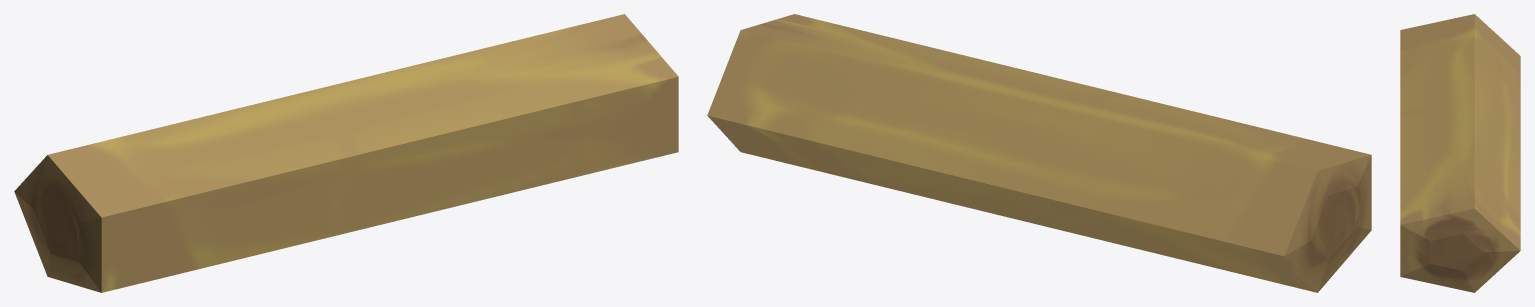
The model's file is Wrapped Lumpia.fbx.
3 renders of one model, left to right at view 1: azimuth 30°, elevation 25°; view 2: azimuth 150°, elevation 25°; view 3: azimuth 270°, elevation 25°, orthographic. The views are drawn at different scales.
Visible parts, largest first — view 1: WrappedLumpia; view 2: WrappedLumpia; view 3: WrappedLumpia.
Part boxes in pixels (x1,y1,x2,y2): WrappedLumpia: (14,14,678,292); WrappedLumpia: (707,14,1371,292); WrappedLumpia: (1400,14,1520,292).
Size of the model in its own units: 54.57 by 14.08 by 10.85.
